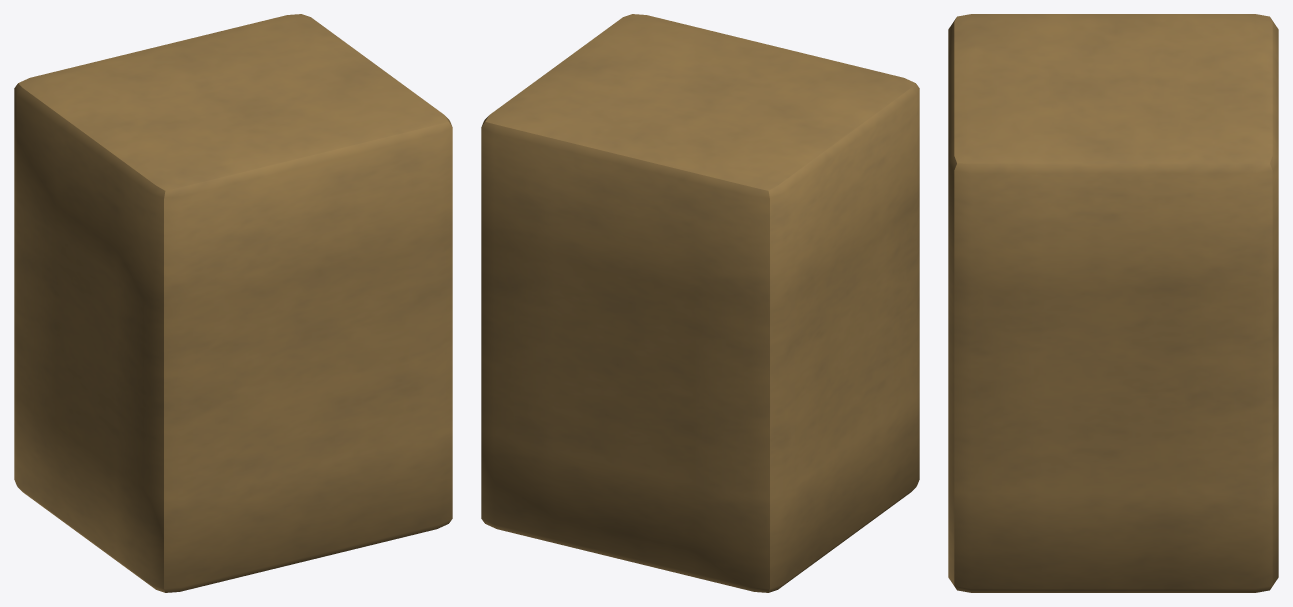
The model's file is Platform Tall Wide.fbx.
The picture shows the model from 3 angles, left to right: view 1: azimuth 30°, elevation 25°; view 2: azimuth 150°, elevation 25°; view 3: azimuth 270°, elevation 25°; orthographic projection. The views are drawn at different scales.
Visible parts, largest first — view 1: PlatformTall Wide; view 2: PlatformTall Wide; view 3: PlatformTall Wide.
Part boxes in pixels (<box>): PlatformTall Wide: <box>14,14,452,592</box>; PlatformTall Wide: <box>481,14,919,592</box>; PlatformTall Wide: <box>948,14,1278,592</box>.
Size of the model in its own units: 60.28 by 54.25 by 78.75.
